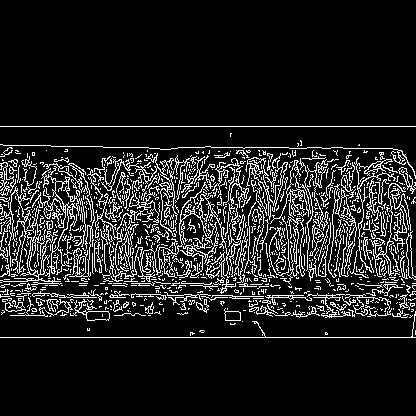buddha-sitting: (32, 102, 375, 224)
